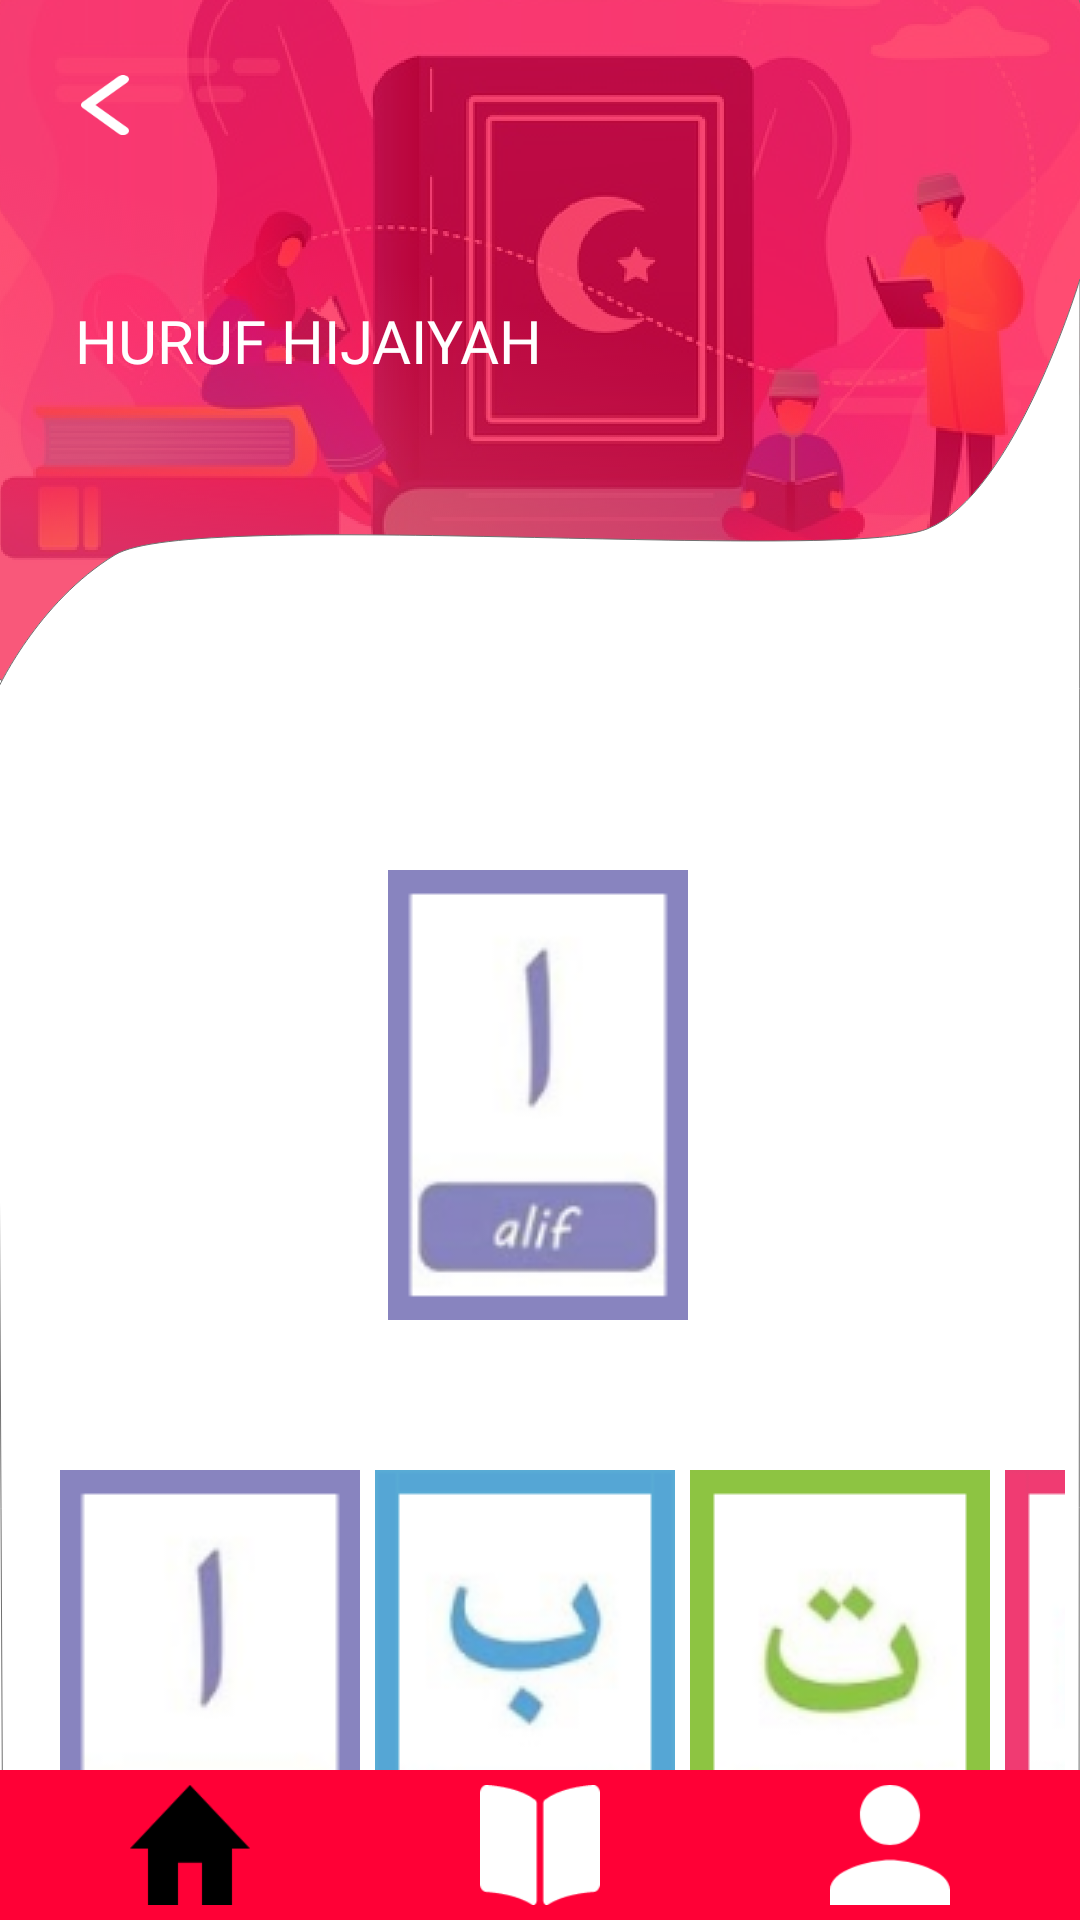

Icons on this 1080px×1920px Android screen, each with the point to tap as [x,y]:
akun: [890,1845]
back: [105,105]
